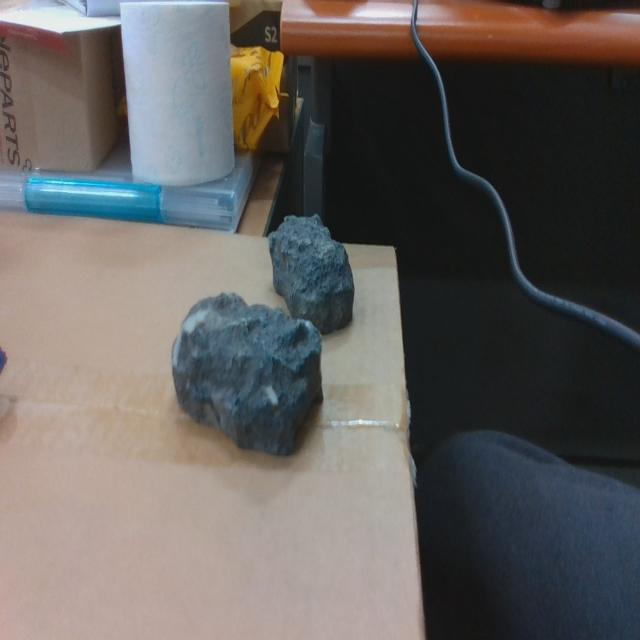stone: (170, 291, 324, 459), (268, 213, 355, 336)
